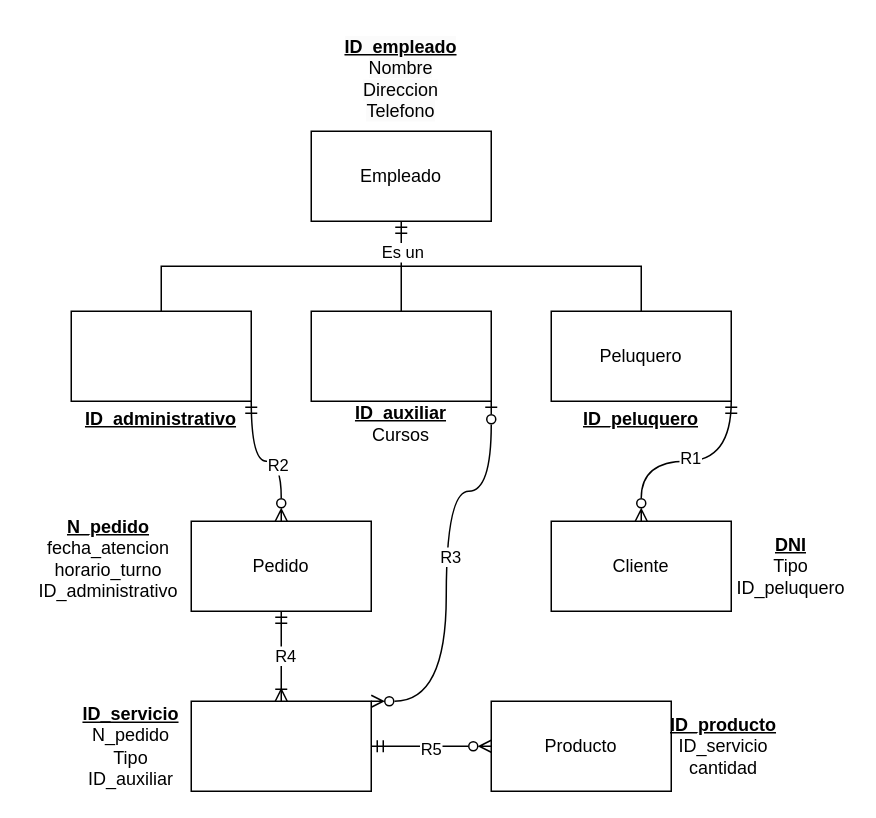
This 876x818 diagram has some shape labels left out. The shapes that lost their labels are listed below. From the top down, each one's centre as x and y in pixels, then its label:
[160,355]: Administrativo
[400,355]: Auxiliar
[280,745]: Servicio
